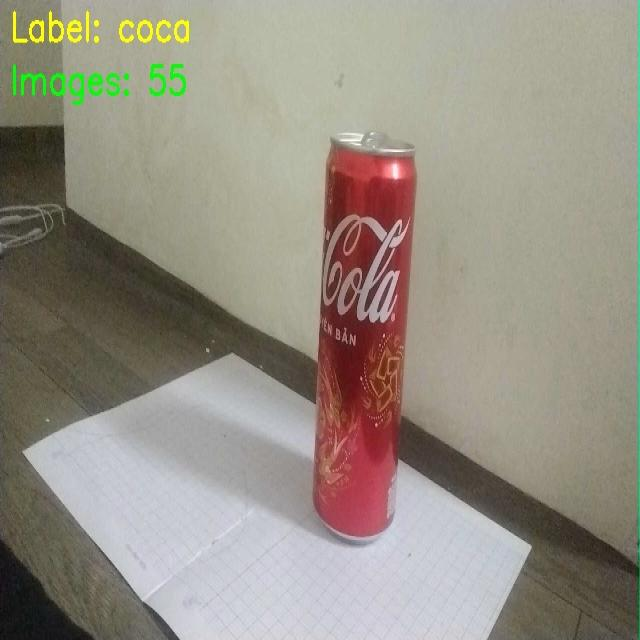Coca: (298, 111, 423, 554)
